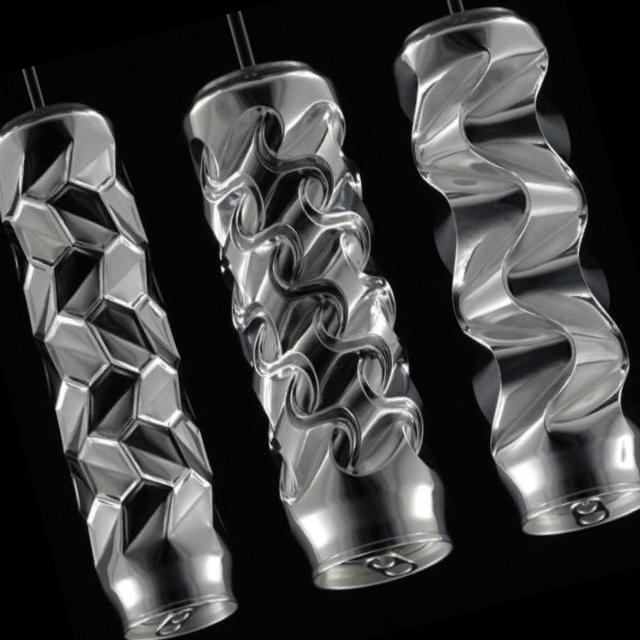Kaleng: (168, 43, 468, 605), (376, 0, 640, 549), (0, 87, 253, 640)
